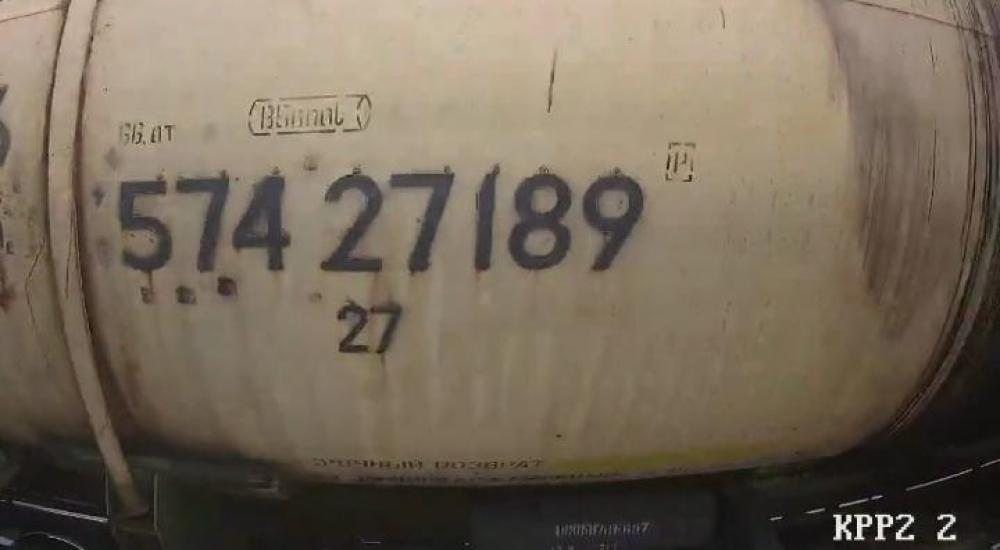Wagon-number: (116, 169, 651, 278)
